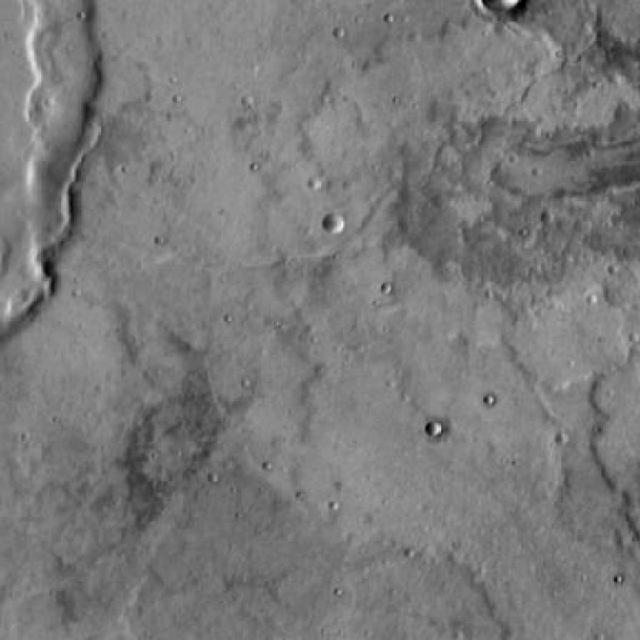crater: (322, 214, 344, 234), (425, 424, 443, 441)
